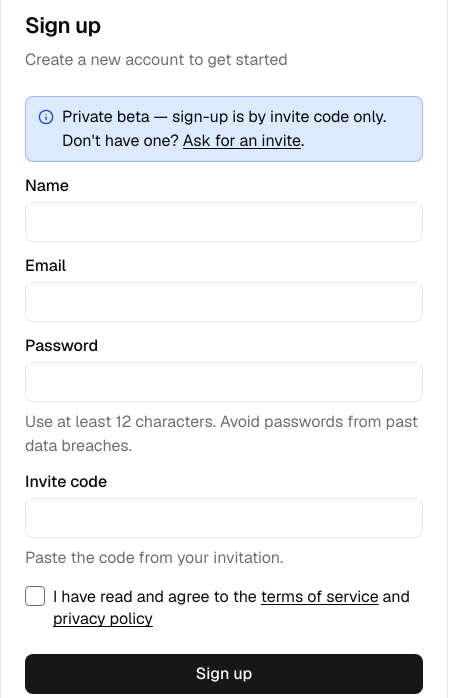
Test: SignUpForm › Continue with Google (HON-1157) › shows a refused code and returns focus to the Google button
Type "used" into the field labelled "Invite code" at (224, 518), box [25,498,423,538]
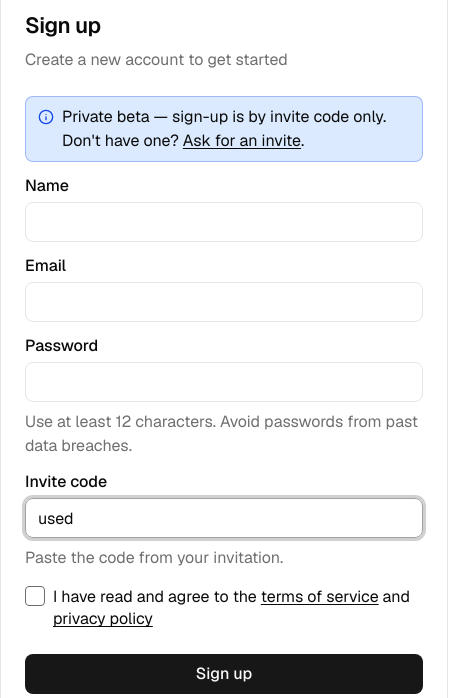
Click the checkbox named "terms of service" at (35, 596), box [25,586,45,606]
(page scrolled)
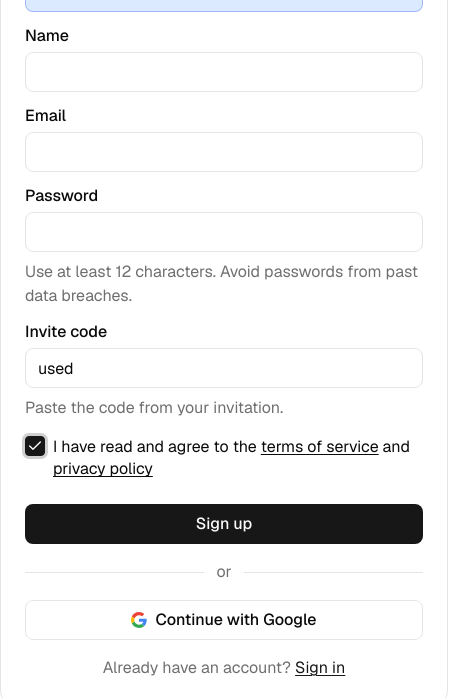
Click the button "Continue with Google" at (224, 620), box [25,600,423,640]
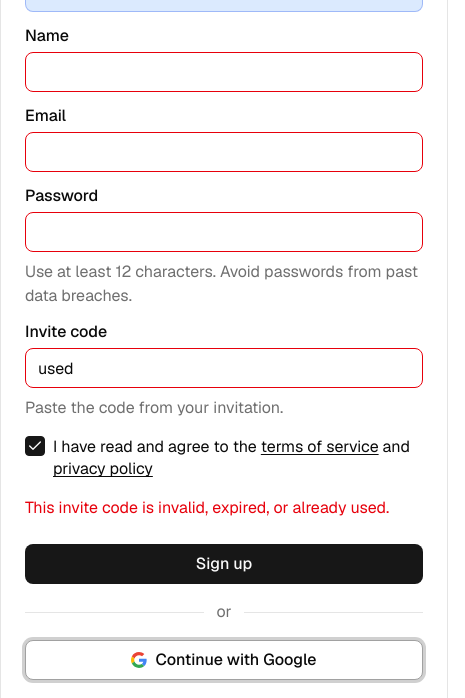
Result: the message reads "This invite code is invalid, expired, or already used." at [25,497,389,518]
